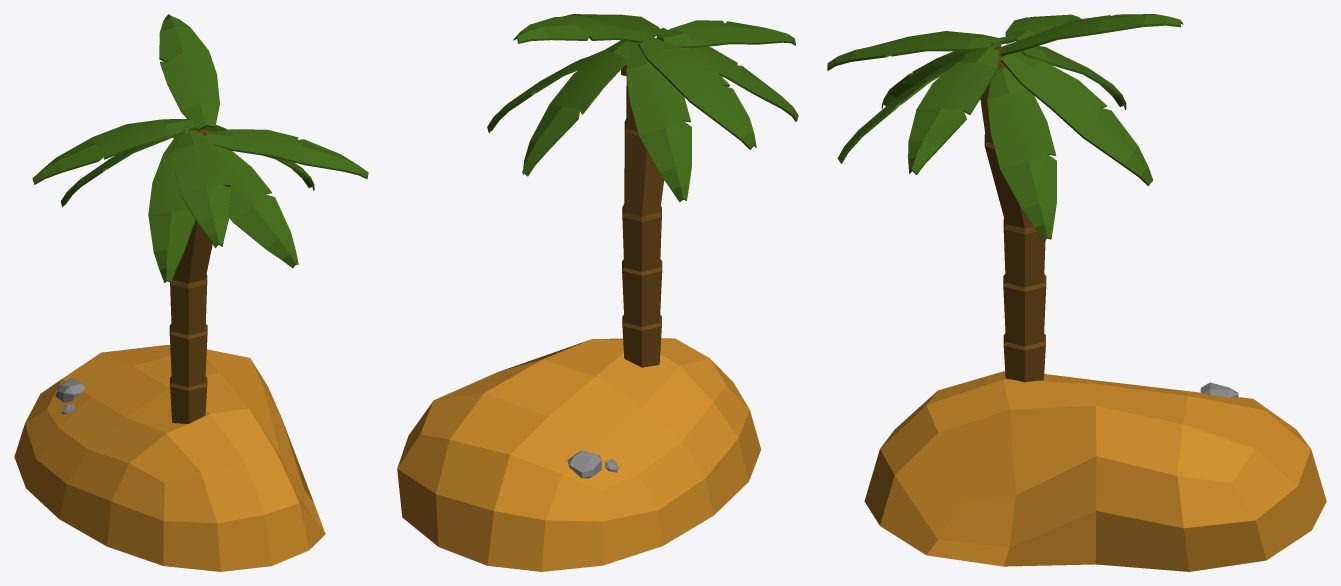
The model's file is Mesh_Island1.fbx.
3 views of the same model, side by side, from view 1: azimuth 30°, elevation 25°; view 2: azimuth 150°, elevation 25°; view 3: azimuth 270°, elevation 25° (orthographic). The views are drawn at different scales.
Parts seen in each view (by area): view 1: Mesh_Island1; view 2: Mesh_Island1; view 3: Mesh_Island1.
Part boxes in pixels (x1,y1,x2,y2): Mesh_Island1: (14, 14, 368, 571); Mesh_Island1: (397, 14, 798, 571); Mesh_Island1: (827, 14, 1326, 571).
Bounding box in the file's own units: 315 × 483 × 427.
1 material, 1 textured.
